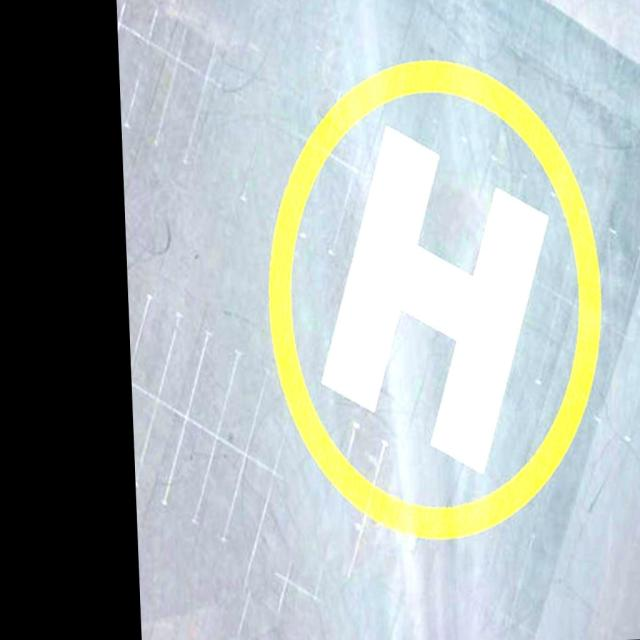helipad: (255, 50, 612, 552)
